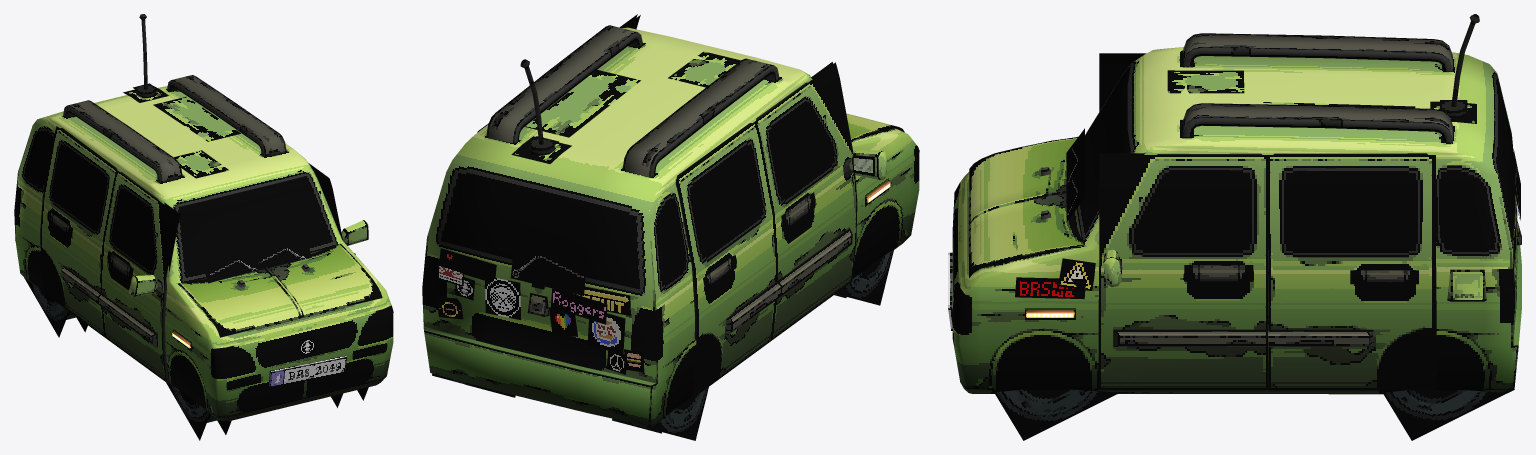
3 renders of one model, left to right at view 1: azimuth 30°, elevation 25°; view 2: azimuth 150°, elevation 25°; view 3: azimuth 270°, elevation 25°, orthographic. The views are drawn at different scales.
Parts seen in each view (by area): view 1: Car_6, FrontalDoorsRight_5, BackDoorsRight_2, Car_front_13, Car_plate_15, FrontalDoorsLeft_17, FrontRight_Wheel_19, BackRight_Wheel_10; view 2: Car_6, FrontalDoorsRight_5, BackDoorsRight_2, BackRight_Wheel_10, FrontRight_Wheel_19, Car_front_13, Car_antenna_11; view 3: Car_6, FrontalDoorsLeft_17, BackDoorsLeft_8, Car_front_13, FrontLeft_Wheel_18, BackLeft_Wheel_9, FrontalDoorsRight_5, Car_antenna_11.
Part boxes in pixels (left/top/right/bottom): Car_6: left=14, top=75, right=393, bottom=421; FrontalDoorsRight_5: left=98, top=170, right=180, bottom=382; BackDoorsRight_2: left=40, top=126, right=117, bottom=337; Car_front_13: left=178, top=244, right=382, bottom=337; Car_plate_15: left=268, top=355, right=346, bottom=387; FrontalDoorsLeft_17: left=308, top=163, right=368, bottom=245; FrontRight_Wheel_19: left=166, top=382, right=231, bottom=440; BackRight_Wheel_10: left=24, top=277, right=87, bottom=337; Car_6: left=422, top=25, right=919, bottom=426; FrontalDoorsRight_5: left=755, top=62, right=886, bottom=340; BackDoorsRight_2: left=675, top=121, right=780, bottom=398; BackRight_Wheel_10: left=612, top=387, right=708, bottom=440; FrontRight_Wheel_19: left=834, top=250, right=893, bottom=305; Car_front_13: left=846, top=113, right=904, bottom=140; Car_antenna_11: left=520, top=59, right=543, bottom=144; Car_6: left=952, top=33, right=1521, bottom=394; FrontalDoorsLeft_17: left=1098, top=153, right=1268, bottom=389; BackDoorsLeft_8: left=1268, top=153, right=1436, bottom=390; Car_front_13: left=969, top=137, right=1083, bottom=277; FrontLeft_Wheel_18: left=994, top=389, right=1119, bottom=440; BackLeft_Wheel_9: left=1383, top=388, right=1514, bottom=440; FrontalDoorsRight_5: left=1099, top=53, right=1145, bottom=111; Car_antenna_11: left=1451, top=14, right=1479, bottom=106.
Size of the model in its own units: 1.97 by 2.23 by 2.98.
19 materials, 19 textured.
